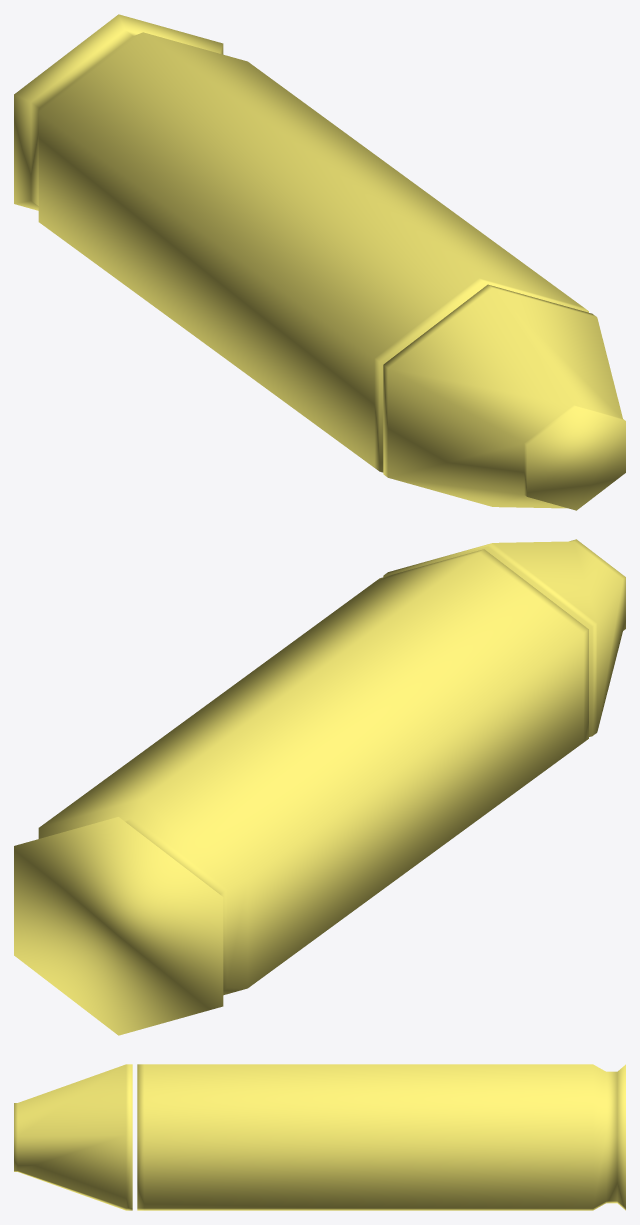
File: cartridge.fbx
3 renders of one model, top to bottom at view 1: azimuth 30°, elevation 25°; view 2: azimuth 150°, elevation 25°; view 3: azimuth 270°, elevation 25°, orthographic. The views are drawn at different scales.
Parts seen in each view (by area): view 1: Casing, Bullet; view 2: Casing, Bullet; view 3: Casing, Bullet.
Boxes of the visible parts, bbox=[...] form: Casing: bbox=[14, 14, 588, 472]; Bullet: bbox=[383, 284, 625, 510]; Casing: bbox=[14, 549, 588, 1035]; Bullet: bbox=[383, 539, 625, 736]; Casing: bbox=[137, 1064, 625, 1210]; Bullet: bbox=[14, 1064, 132, 1210].
Size of the model in its own units: 0.0109 by 0.0109 by 0.0413.
